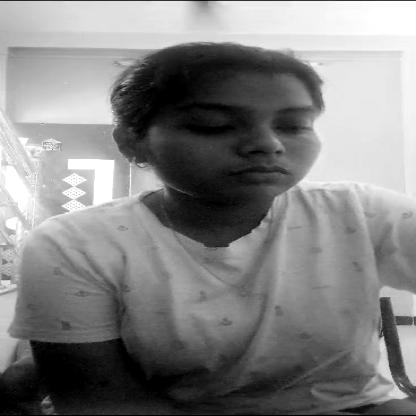Distracted: (102, 45, 332, 209)
